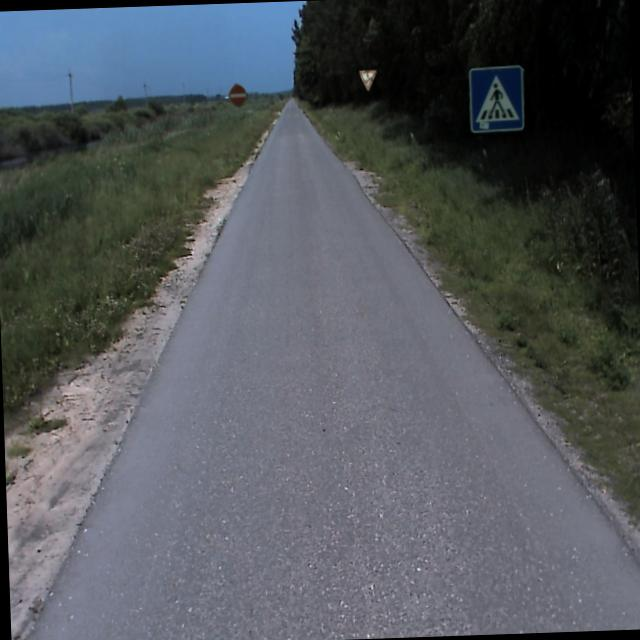road: (25, 96, 640, 640)
